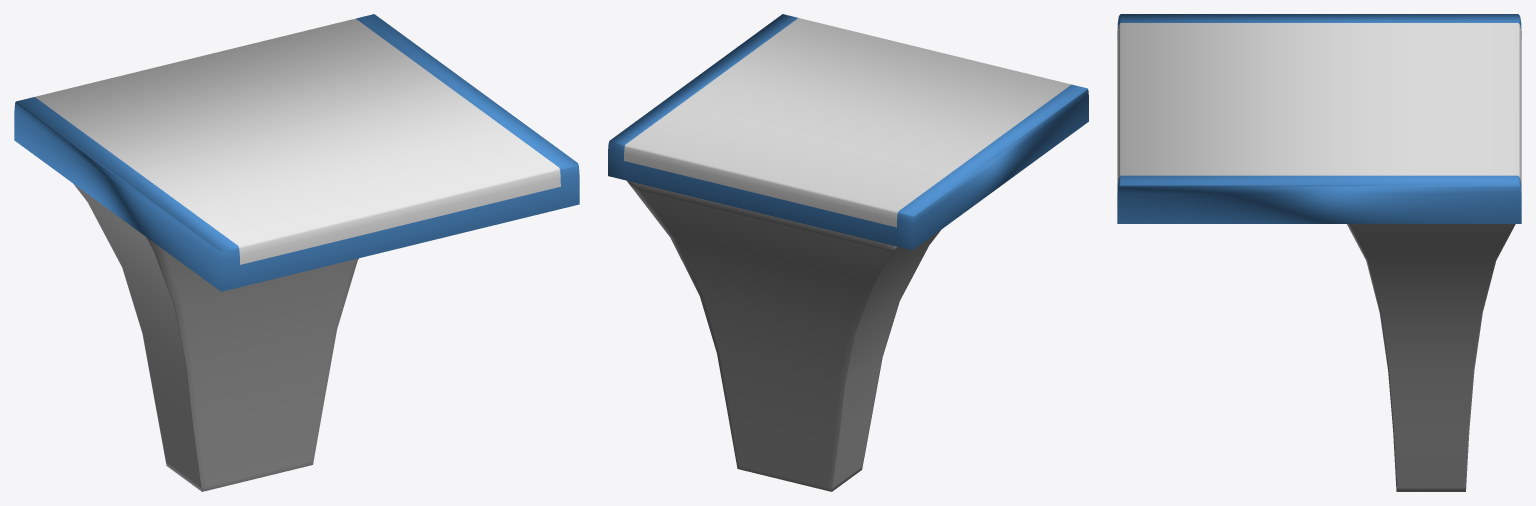
The model's file is sh-scopia-diving-board.glb.
3 views of the same model, side by side, from view 1: azimuth 30°, elevation 25°; view 2: azimuth 150°, elevation 25°; view 3: azimuth 270°, elevation 25° (orthographic). The views are drawn at different scales.
Parts seen in each view (by area): view 1: table_Cube, base_Cube.001; view 2: table_Cube, base_Cube.001; view 3: table_Cube, base_Cube.001.
Boxes of the visible parts, left/top/right/bottom form: table_Cube: left=14, top=14, right=579, bottom=291; base_Cube.001: left=73, top=184, right=358, bottom=491; table_Cube: left=608, top=14, right=1088, bottom=250; base_Cube.001: left=627, top=180, right=940, bottom=491; table_Cube: left=1117, top=14, right=1521, bottom=223; base_Cube.001: left=1347, top=224, right=1515, bottom=491.
Bounding box in the file's own units: 1 × 1 × 1.
